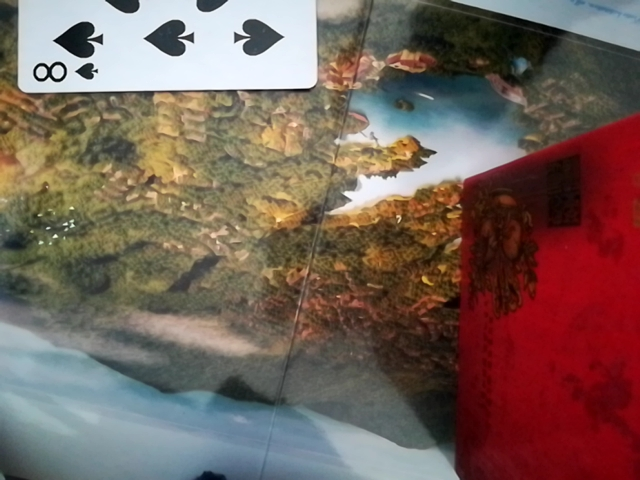ht 8: (10, 2, 322, 94)
